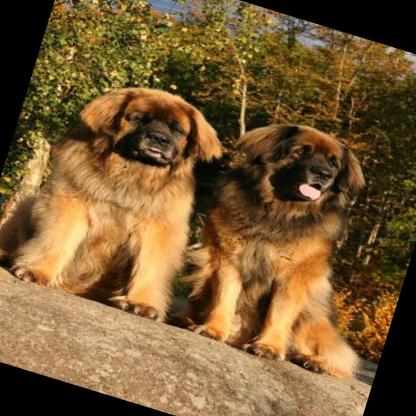Leonberg: (163, 101, 416, 384), (0, 45, 236, 329)
